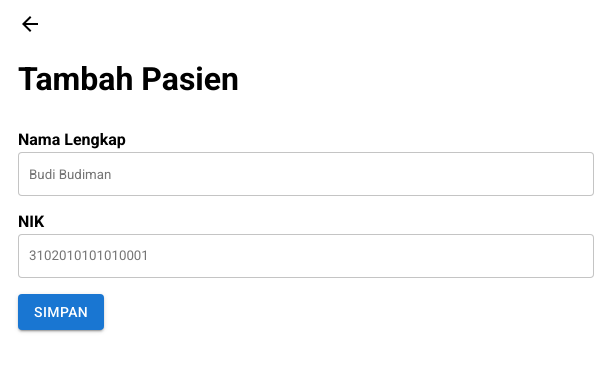
it: <PatientForm/> › invalidate empty name field
Step 1. Click the button "Simpan" → {"x": 61, "y": 312}, box [18,294,104,330]
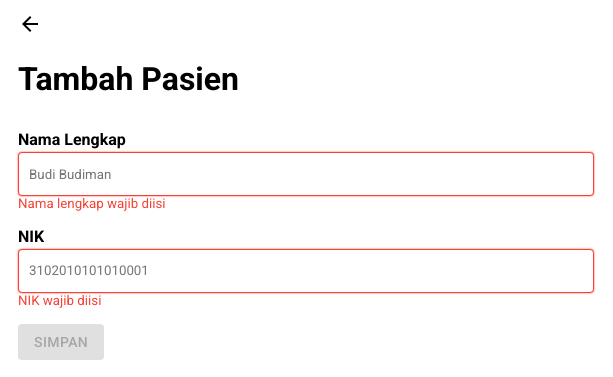
Now the text "Nama lengkap wajib diisi" is shown, box [18,196,166,211]
